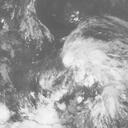cyclone: (39, 36, 104, 99)
